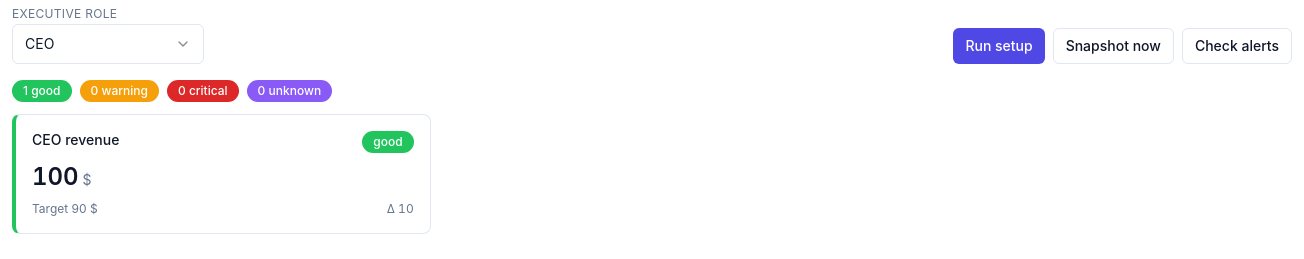
Test case: ScorecardView › re-queries the scorecard when the role switches
Click the dropdown named "Executive role" at (108, 44), box [12,24,204,64]
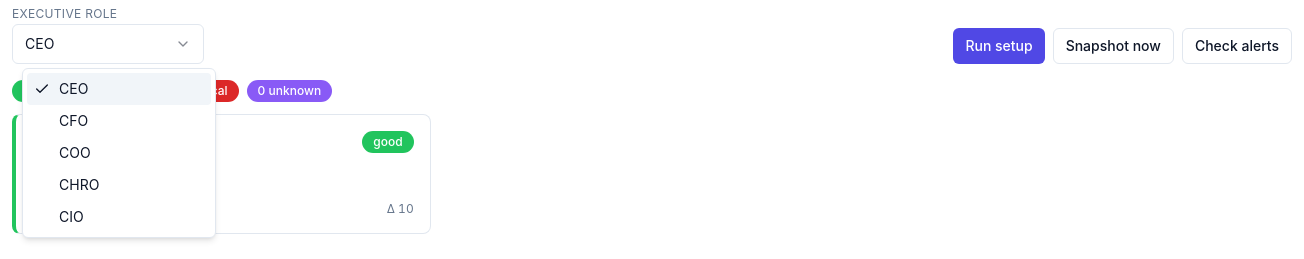
Click the option "CFO" at (74, 120), box [59,112,88,129]
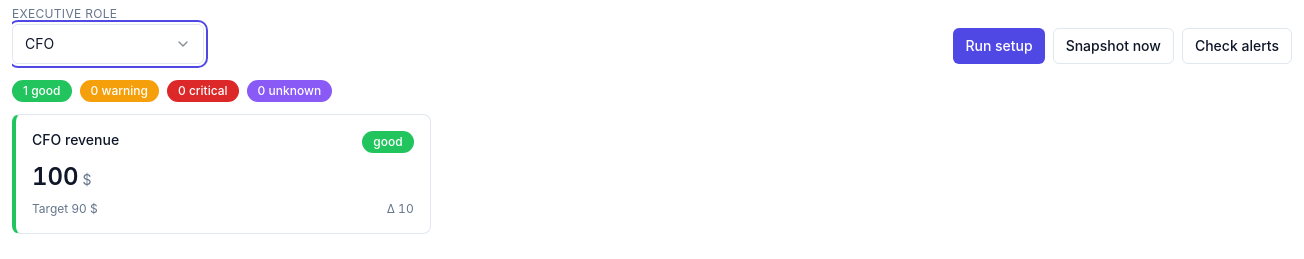
Result: the text "CFO revenue" is shown at [32,131,119,148]
